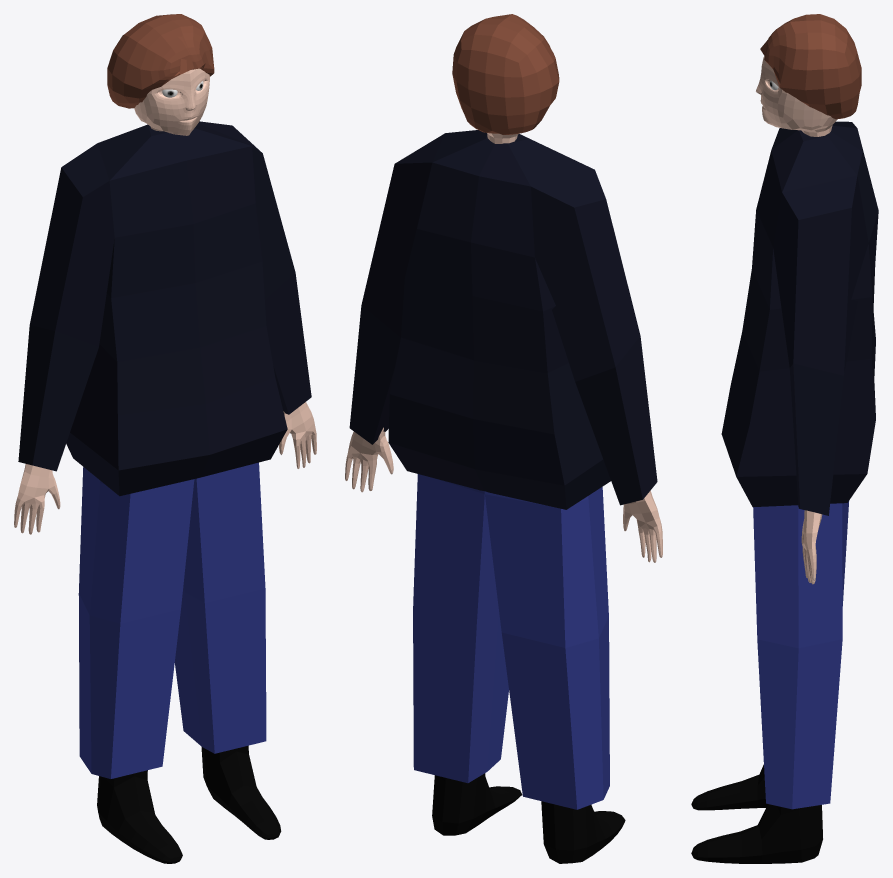
File: male2.fbx
3 renders of one model, left to right at view 1: azimuth 30°, elevation 25°; view 2: azimuth 150°, elevation 25°; view 3: azimuth 270°, elevation 25°, orthographic. The views are drawn at different scales.
Parts seen in each view (by area): view 1: sweater_male, pants_male, body, hat; view 2: sweater_male, pants_male, body, hat; view 3: sweater_male, pants_male, body, hat.
Boxes of the visible parts, x1,y1,x2,y2 form: sweater_male: (18,121,311,496); pants_male: (78,462,266,778); body: (14,68,316,863); hat: (107,14,214,108); sweater_male: (349,130,657,509); pants_male: (413,474,609,809); body: (345,133,662,863); hat: (452,14,559,134); sweater_male: (721,121,878,515); pants_male: (753,501,848,809); body: (691,56,837,863); hat: (760,14,861,119).
Bounding box in the file's own units: 320 × 801 × 167.
4 materials, 1 textured.
